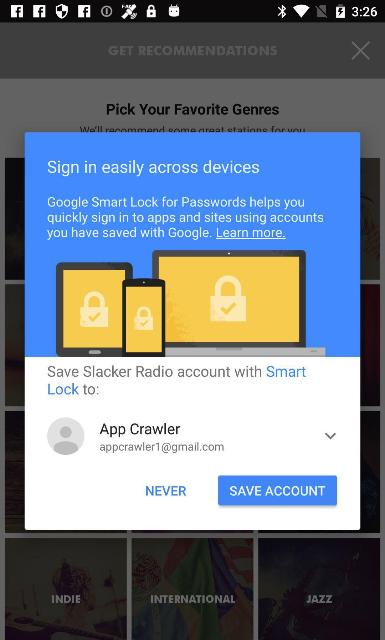Icon: (47, 417, 85, 455), (352, 41, 370, 60), (324, 432, 336, 440)
Image: (56, 250, 326, 356)
Modal: (24, 132, 360, 530)
Text: (46, 196, 324, 240), (47, 365, 306, 395), (47, 160, 259, 177), (106, 103, 280, 115), (108, 45, 276, 55), (100, 441, 224, 453), (100, 423, 180, 437), (230, 486, 326, 496), (150, 595, 235, 603), (145, 486, 186, 496), (51, 595, 80, 603), (306, 595, 332, 603)
TextButton: (218, 475, 336, 505)
UpperTaskBar: (0, 0, 384, 22)
